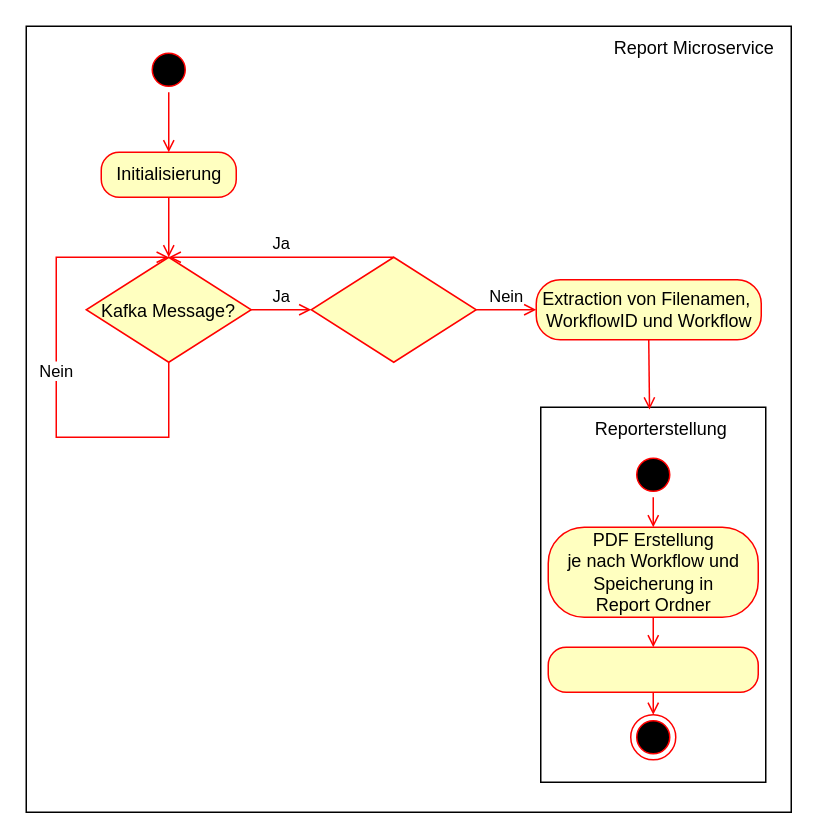
The diagram is 818 pixels wide and 839 high, and some of its shapes have lost their labels. Each missing label, with the centre of its shape:
"Success Event in Kafka Topic" goes at (x=652, y=669).
"Success Event?" goes at (x=393, y=309).
